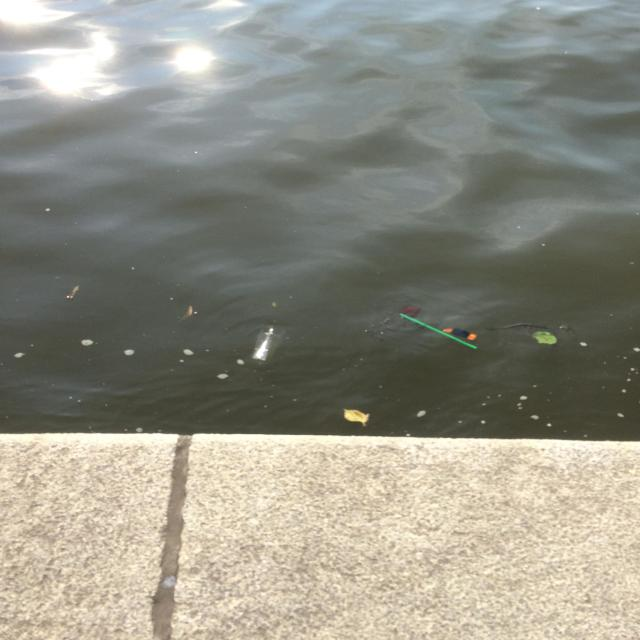Disposable plastic cup: (251, 325, 285, 363)
Other plastic: (443, 328, 477, 340)
Plastic straw: (399, 313, 477, 349)
